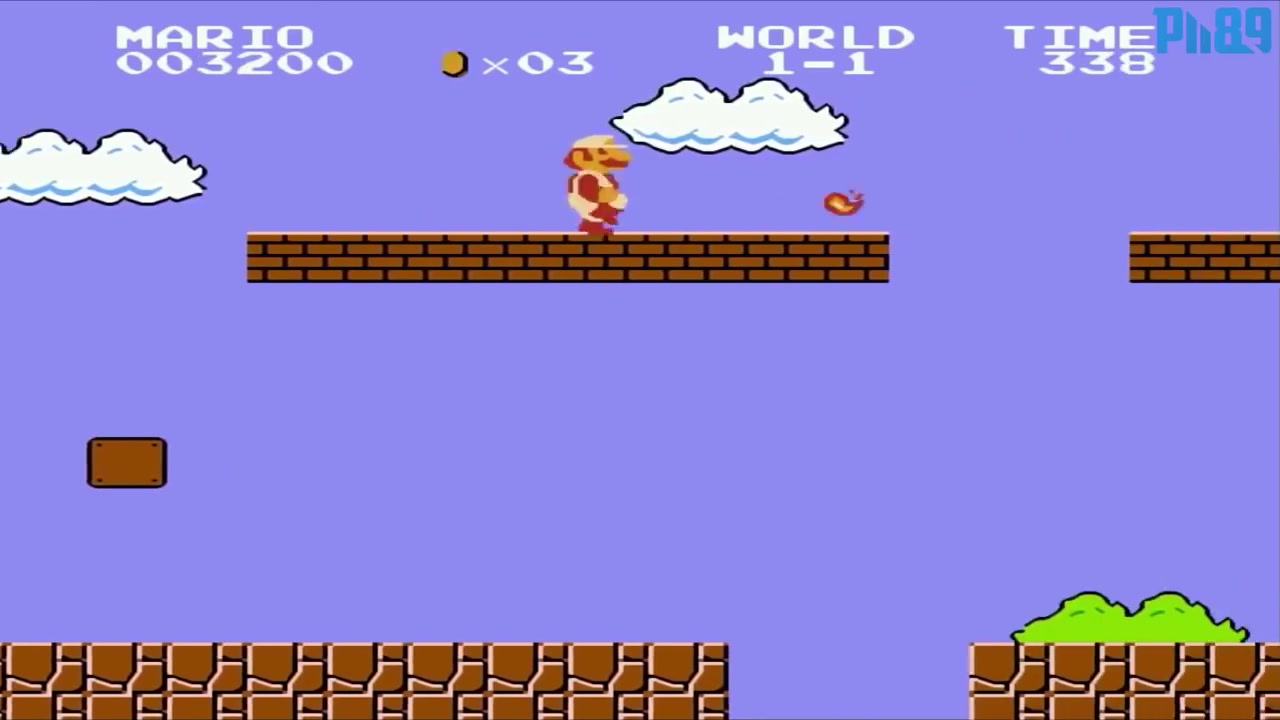mario: (557, 135, 629, 238)
